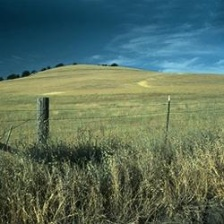neutral: (3, 1, 224, 223)
